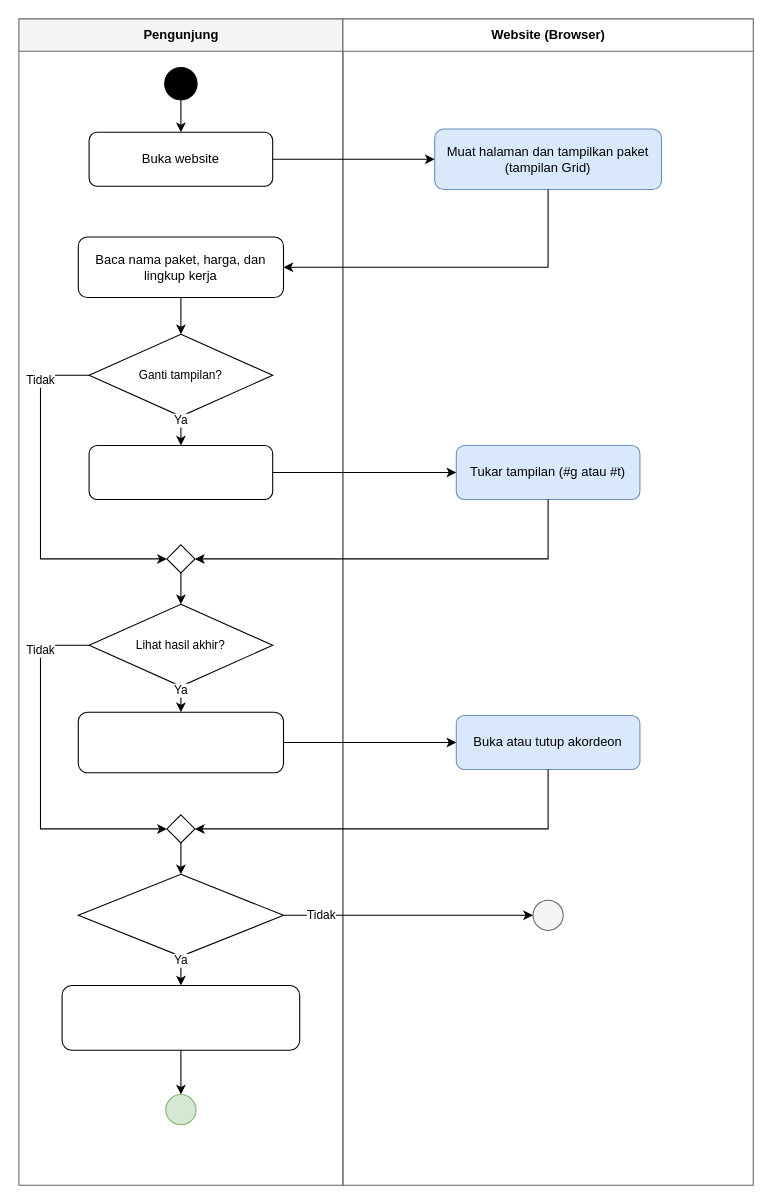
Image size: 772x1204. Some labels were removed from this diagram. The centre of each missing label's shape, as x and y in pixels:
Klik "Hasil akhir yang diterima": point 180,742
Klik tombol Grid atau Tabel: point 180,472
Lanjut: tambah ke estimasi atau konsultasi gratis: point 180,1017
Tertarik dengan paket?: point 180,914
